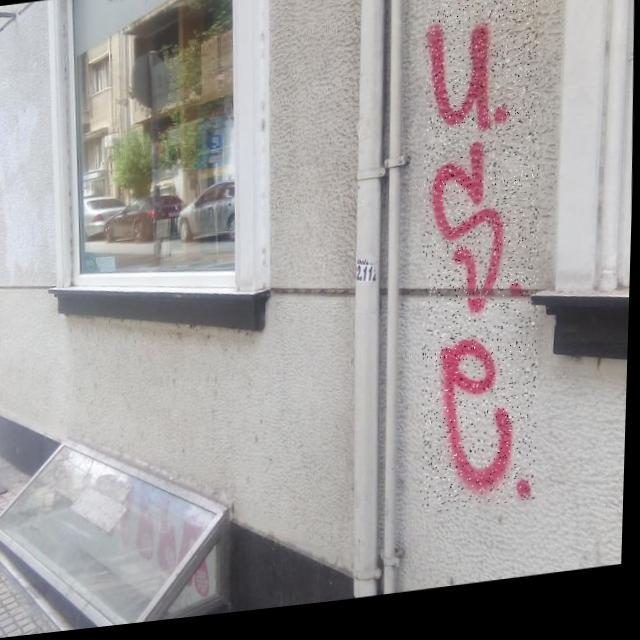-: (414, 0, 550, 525)
